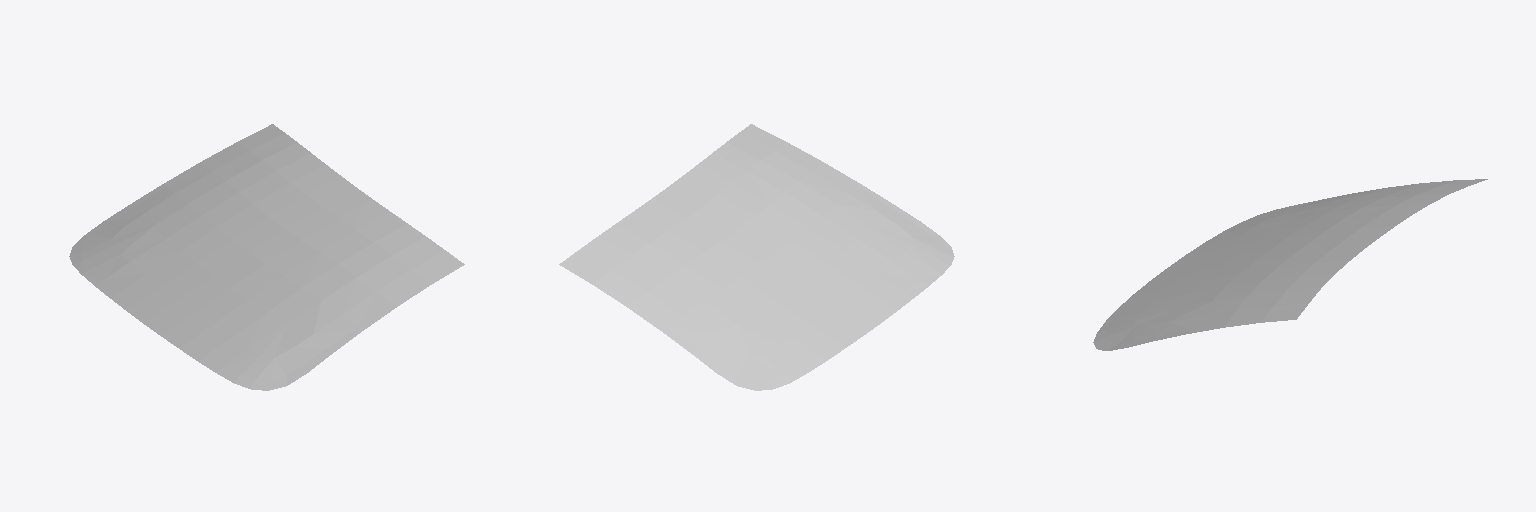
3 views of the same model, side by side, from view 1: azimuth 30°, elevation 25°; view 2: azimuth 150°, elevation 25°; view 3: azimuth 330°, elevation 25° (orthographic).
Visible parts, largest first — view 1: Z187_365C_C_Z187_365C_C_2_DTaSI, Z187_365C_C_1_DTaSI_Z187_365C_C; view 2: Z187_365C_C_Z187_365C_C_2_DTaSI, Z187_365C_C_1_DTaSI_Z187_365C_C; view 3: Z187_365C_C_Z187_365C_C_2_DTaSI, Z187_365C_C_1_DTaSI_Z187_365C_C.
Part boxes in pixels (x1,y1,x2,y2): Z187_365C_C_Z187_365C_C_2_DTaSI: (81,134,444,379); Z187_365C_C_1_DTaSI_Z187_365C_C: (69,124,464,390); Z187_365C_C_Z187_365C_C_2_DTaSI: (579,134,942,379); Z187_365C_C_1_DTaSI_Z187_365C_C: (559,124,954,390); Z187_365C_C_Z187_365C_C_2_DTaSI: (1105,182,1468,343); Z187_365C_C_1_DTaSI_Z187_365C_C: (1093,179,1487,350).
Bounding box in the file's own units: 86.18 × 31.87 × 136.